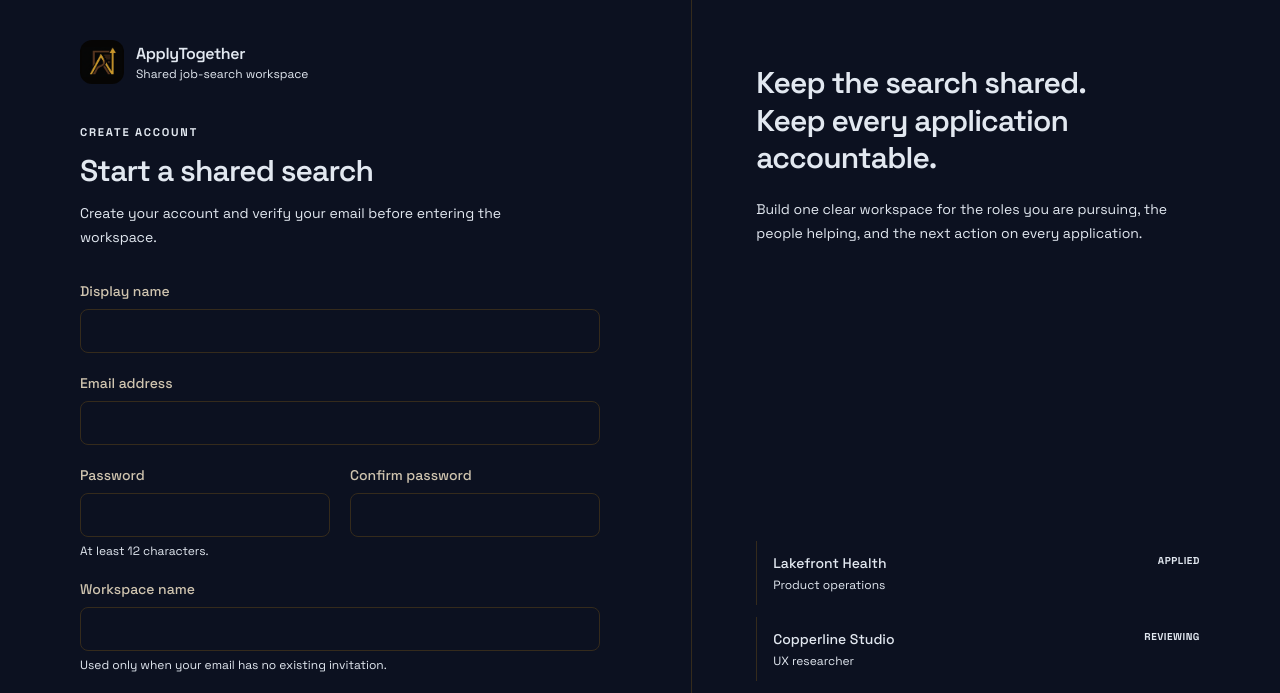
Test: SignupPage › submits once and shows the check-email state
Type "Amara Ellis" into the field labelled "Display name" at x=340, y=331, box [80,309,600,353]
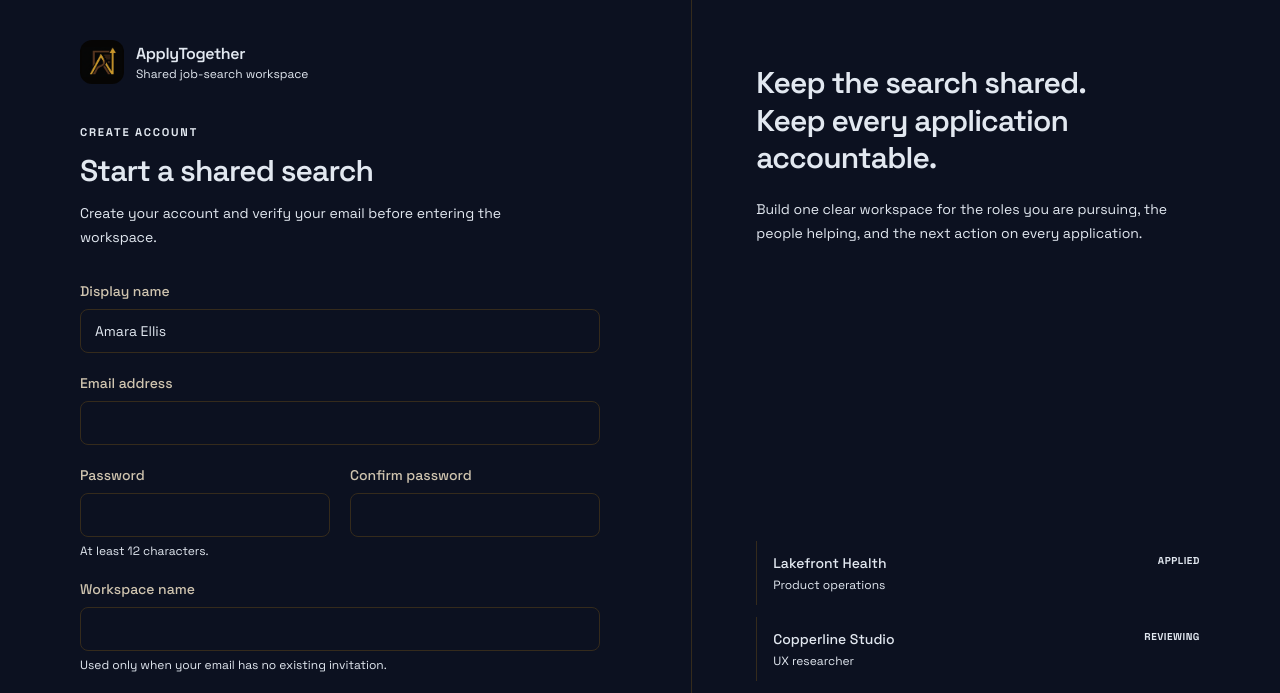
Type "amara@example.com" into the field labelled "Email address" at x=340, y=423, box [80,401,600,445]
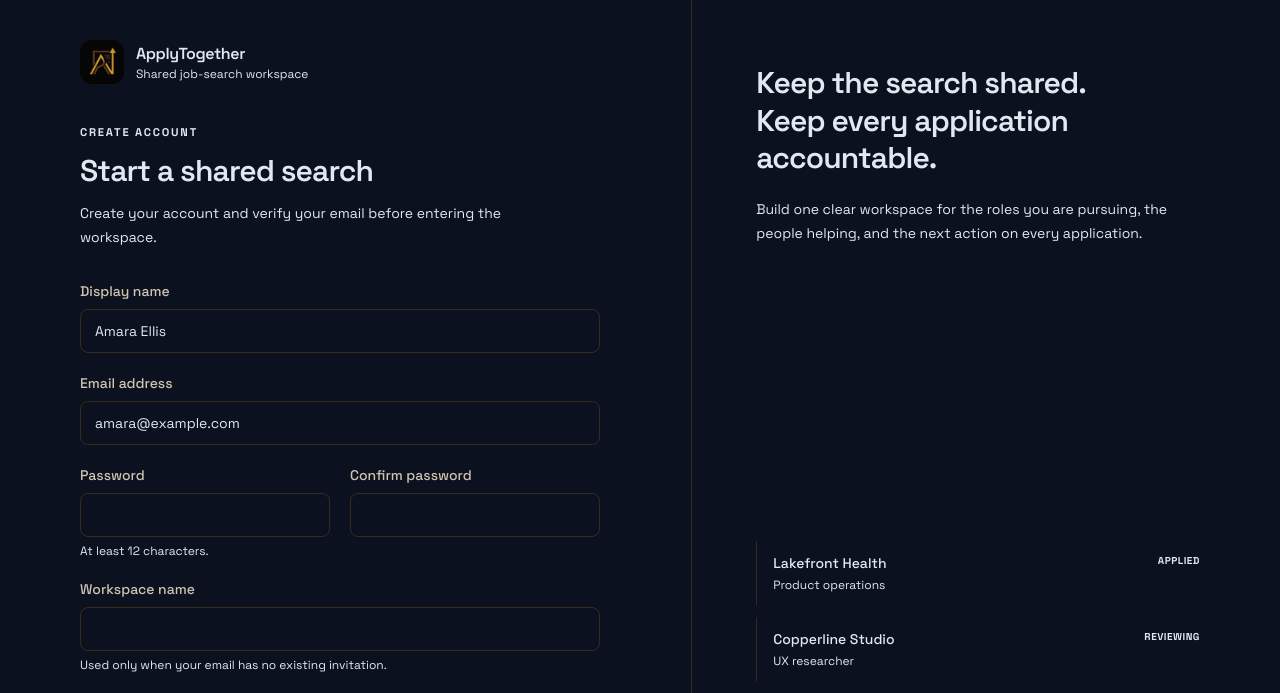
Type "correct horse battery staple" into the password field labelled "Password" at x=205, y=515, box [80,493,330,537]
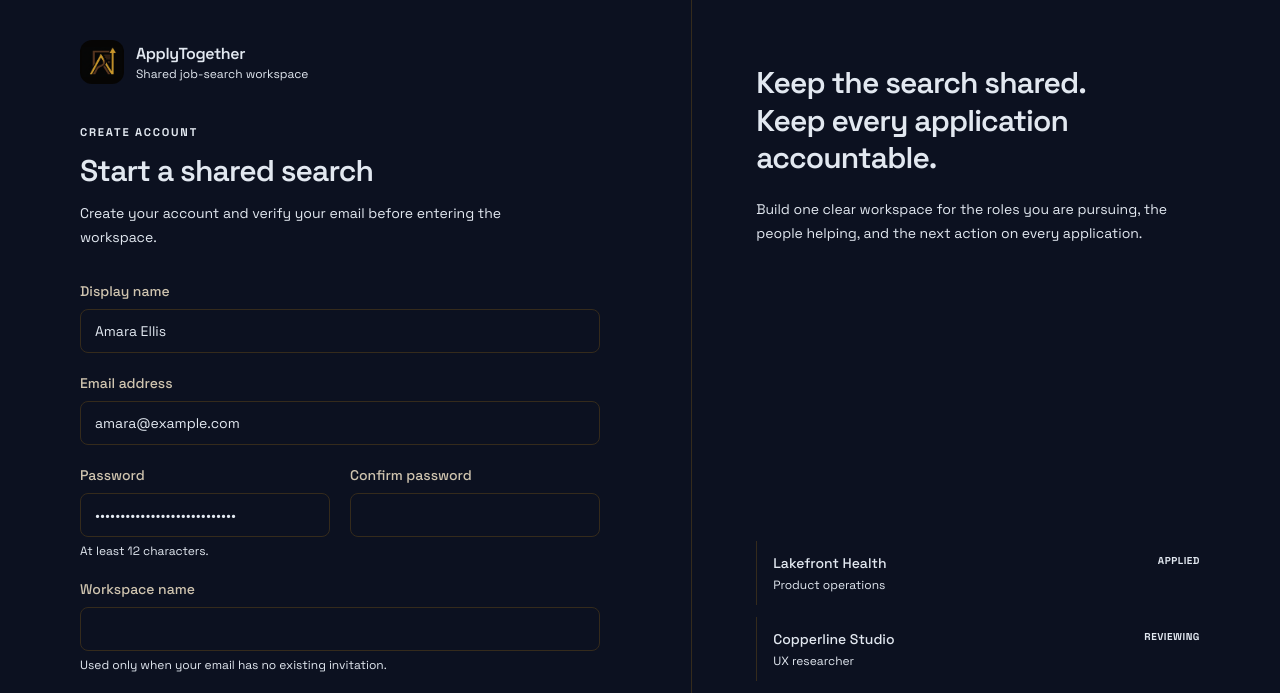
Type "correct horse battery staple" into the password field labelled "Confirm password" at x=475, y=515, box [350,493,600,537]
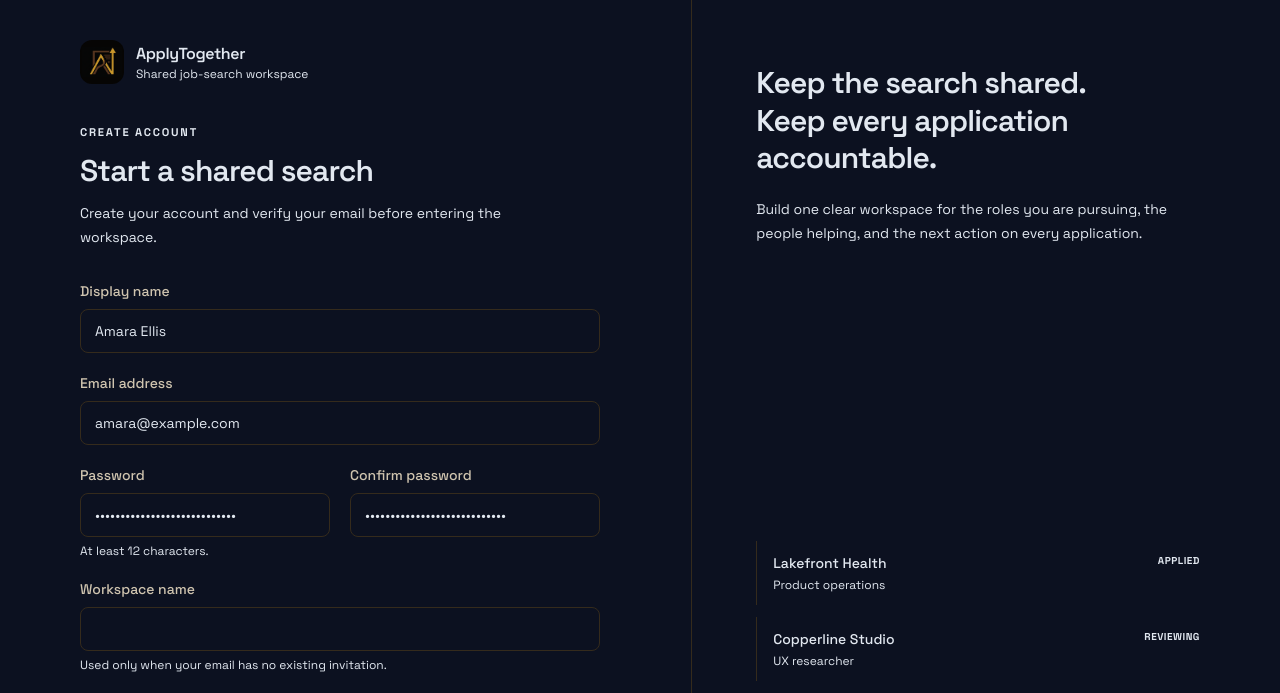
Type "Amara's search" into the field labelled "Workspace name" at x=340, y=629, box [80,607,600,651]
(page scrolled)
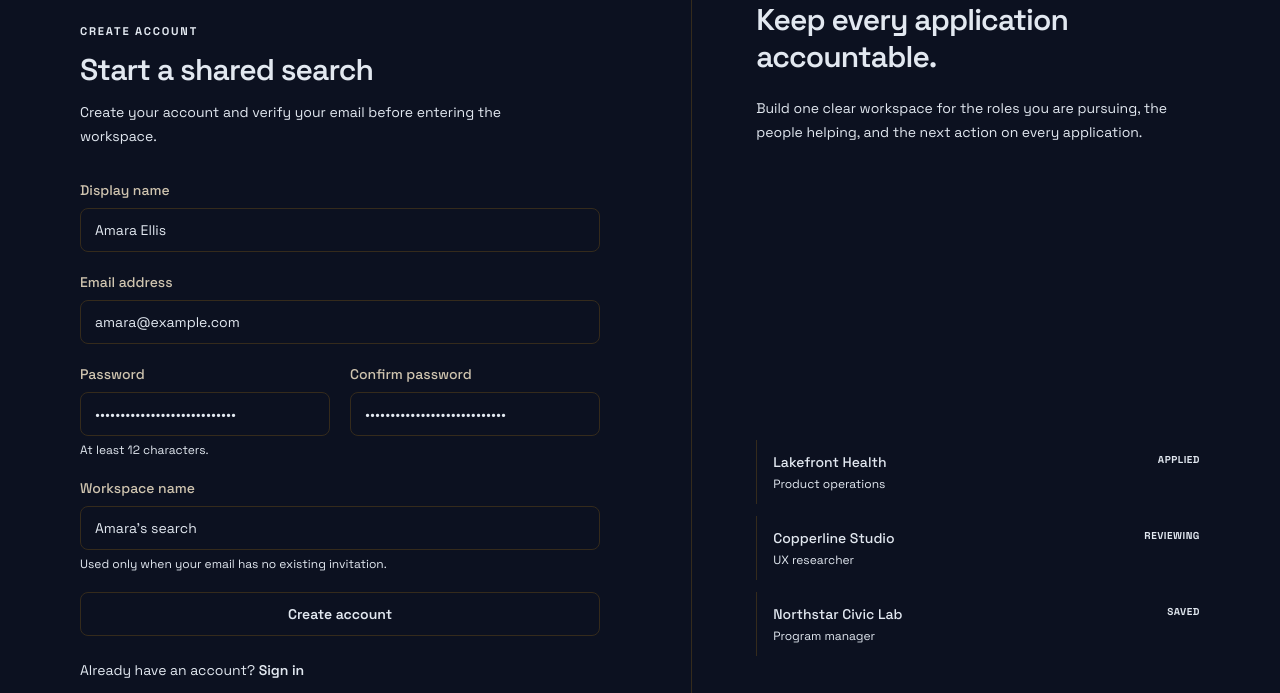
Click the button "Create account" at x=340, y=614, box [80,592,600,636]
(page scrolled)
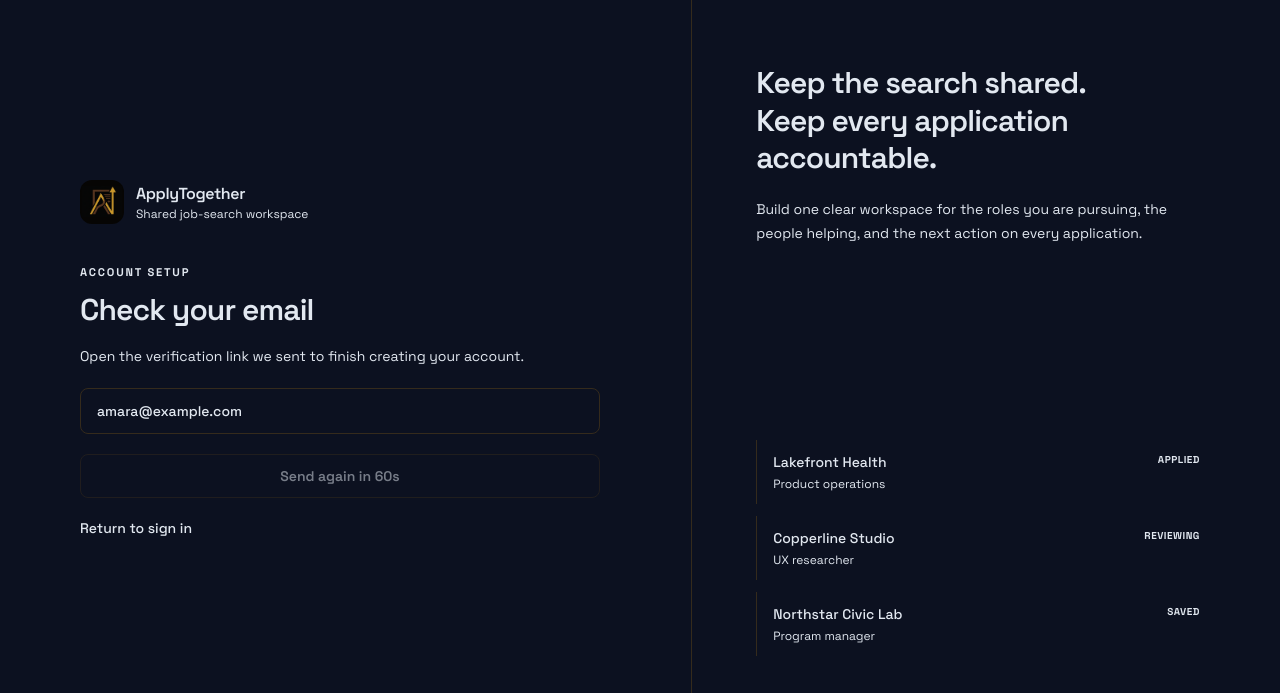
Check: the heading "Check your email" is shown, box [80,290,314,329]
Check: the text "amara@example.com" is shown, box [80,388,600,434]
